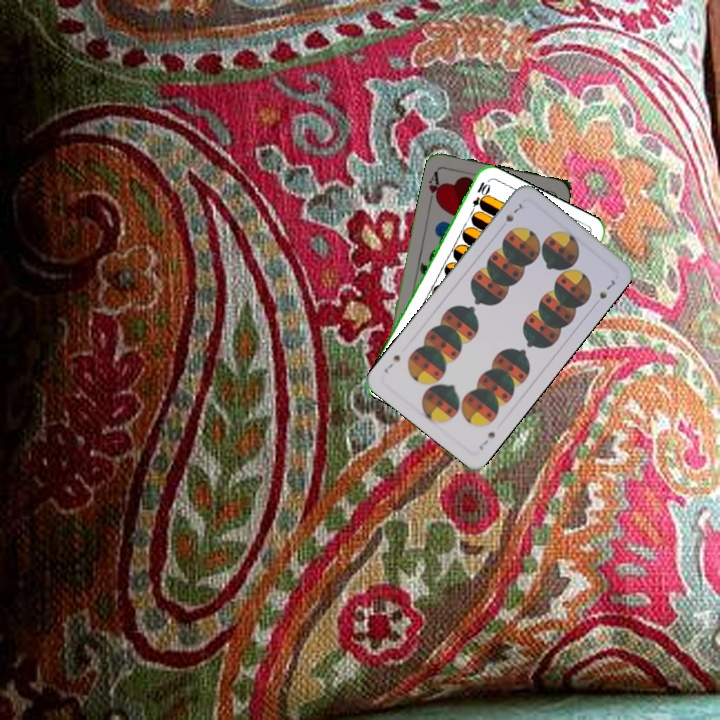E10: (466, 178, 491, 217)
HA: (425, 167, 444, 207)
S7: (502, 199, 528, 225), (475, 427, 498, 453)
